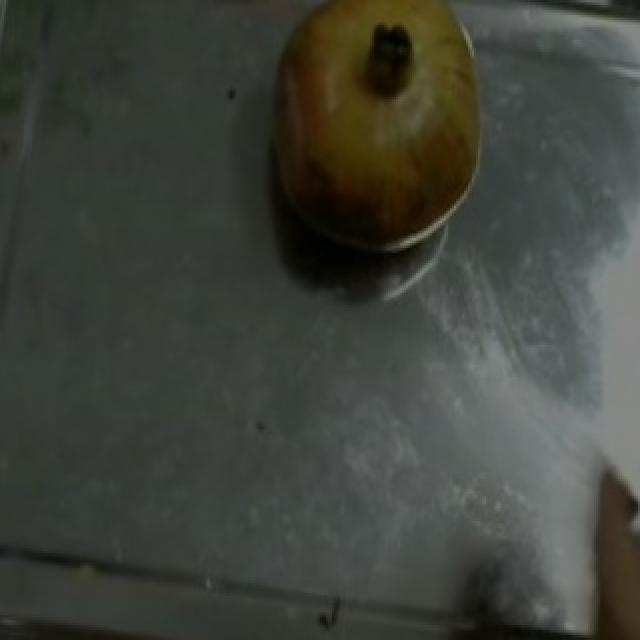fruit: (236, 0, 516, 258)
